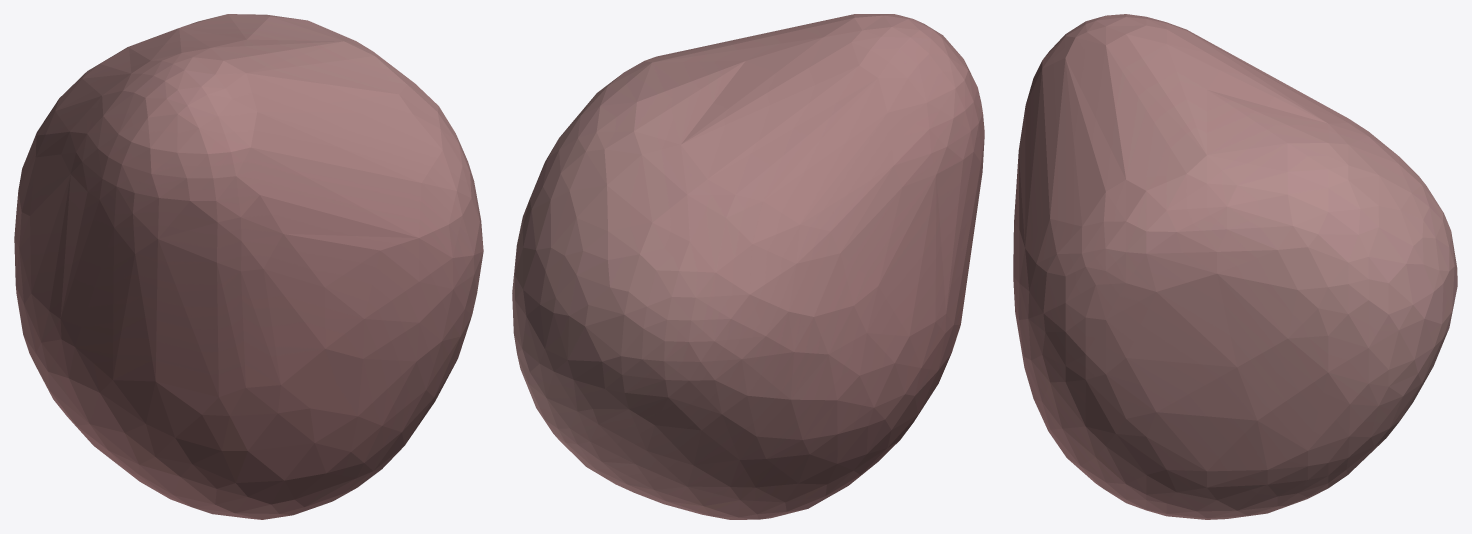
File: Mammillary_bodies1.obj
3 views of the same model, side by side, from view 1: azimuth 30°, elevation 25°; view 2: azimuth 150°, elevation 25°; view 3: azimuth 270°, elevation 25° (orthographic). The views are drawn at different scales.
Parts seen in each view (by area): view 1: obj0; view 2: obj0; view 3: obj0.
Part boxes in pixels (box(x1,y1,x2,y2)): obj0: box(14, 14, 483, 519); obj0: box(512, 14, 984, 519); obj0: box(1013, 14, 1457, 519).
Bounding box in the file's own units: 2.79 × 3.47 × 3.2.
Materials: 1 (1 with a texture image).
